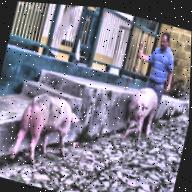boar: (8, 85, 84, 176), (121, 81, 160, 145)
